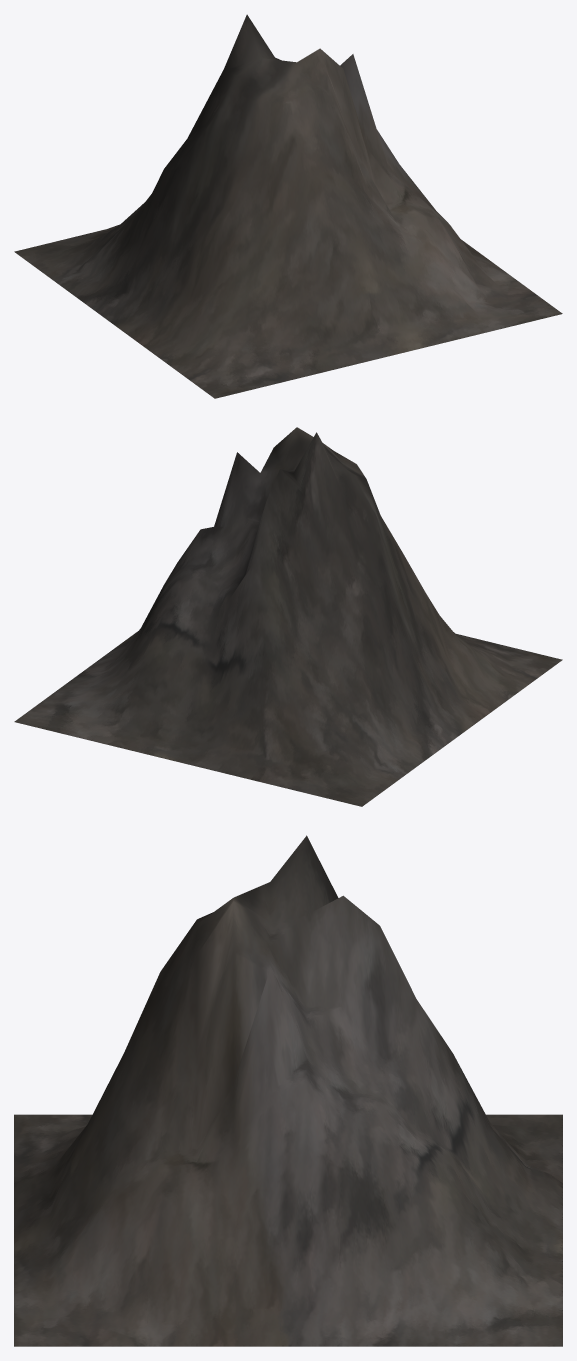
The model's file is rock5.fbx.
3 renders of one model, top to bottom at view 1: azimuth 30°, elevation 25°; view 2: azimuth 150°, elevation 25°; view 3: azimuth 270°, elevation 25°, orthographic. The views are drawn at different scales.
Parts seen in each view (by area): view 1: Landscape; view 2: Landscape; view 3: Landscape.
Part boxes in pixels (bbox=[...]): Landscape: bbox=[14, 14, 562, 398]; Landscape: bbox=[14, 427, 562, 806]; Landscape: bbox=[14, 835, 562, 1346].
Bounding box in the file's own units: 10 × 7.47 × 10.
1 material, 1 textured.
